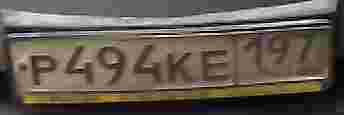license-plateSW: (6, 24, 333, 94)
